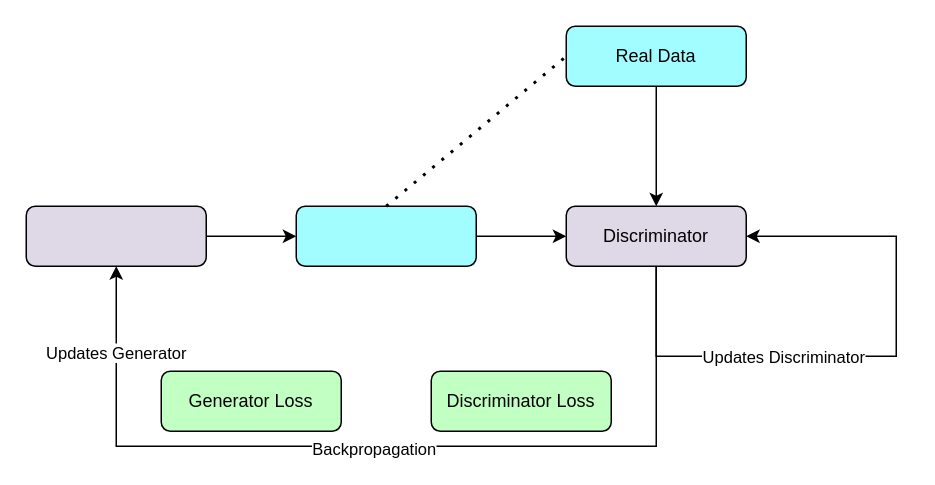
This 935x485 diagram has some shape labels left out. The centre of each missing label's shape, as x and y in pixels:
"Generator" goes at (115,235).
"Synthetic Data" goes at (385,235).
